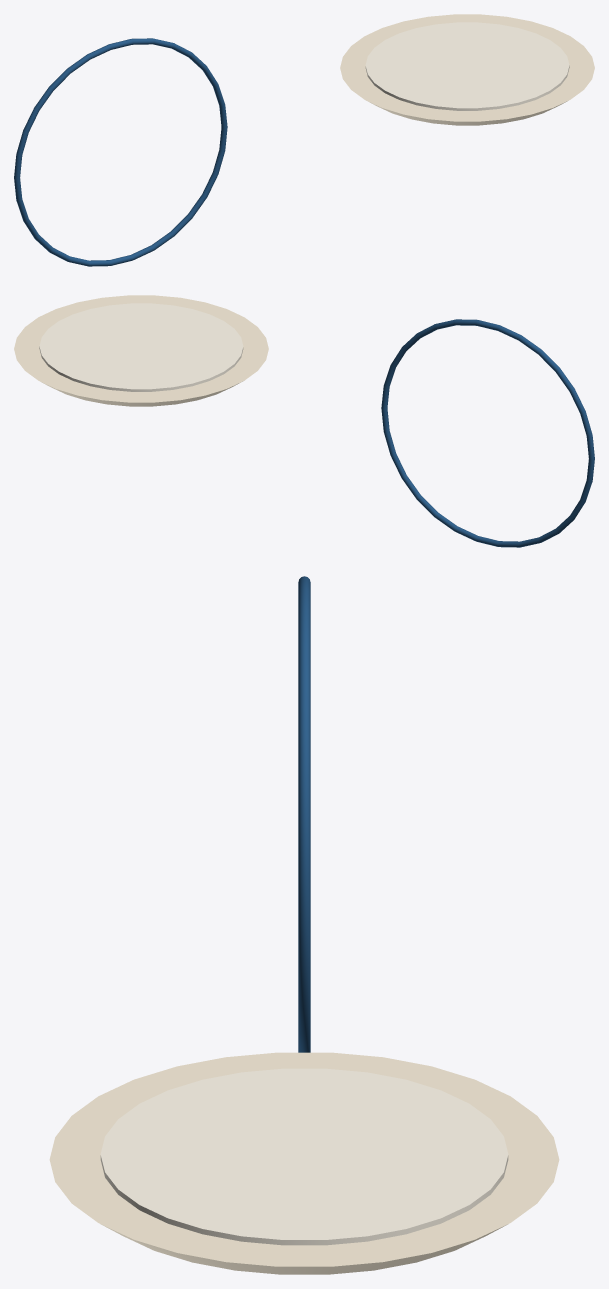
Rendered from wok_tool_plate.glb.
3 views of the same model, one above another, from view 1: azimuth 30°, elevation 25°; view 2: azimuth 150°, elevation 25°; view 3: azimuth 270°, elevation 25° (orthographic). The views are drawn at different scales.
Bounding box in the file's own units: 2.55 × 0.9587 × 1.
